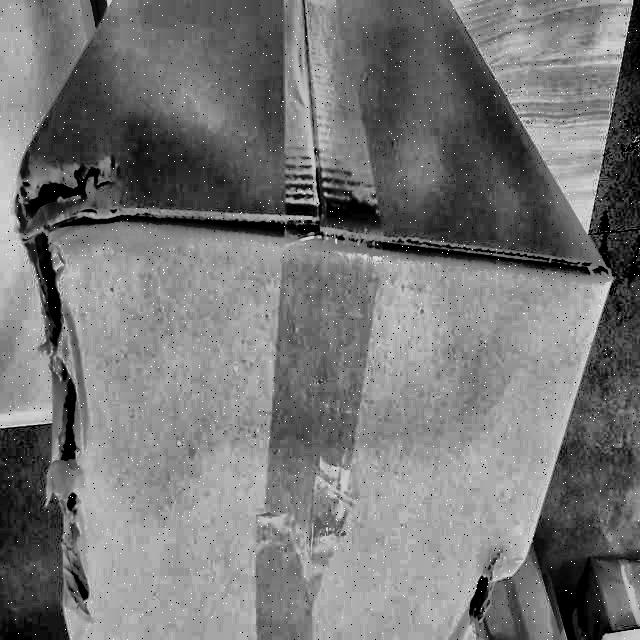box: (5, 1, 625, 640)
hole: (14, 164, 102, 622), (465, 550, 508, 630)
